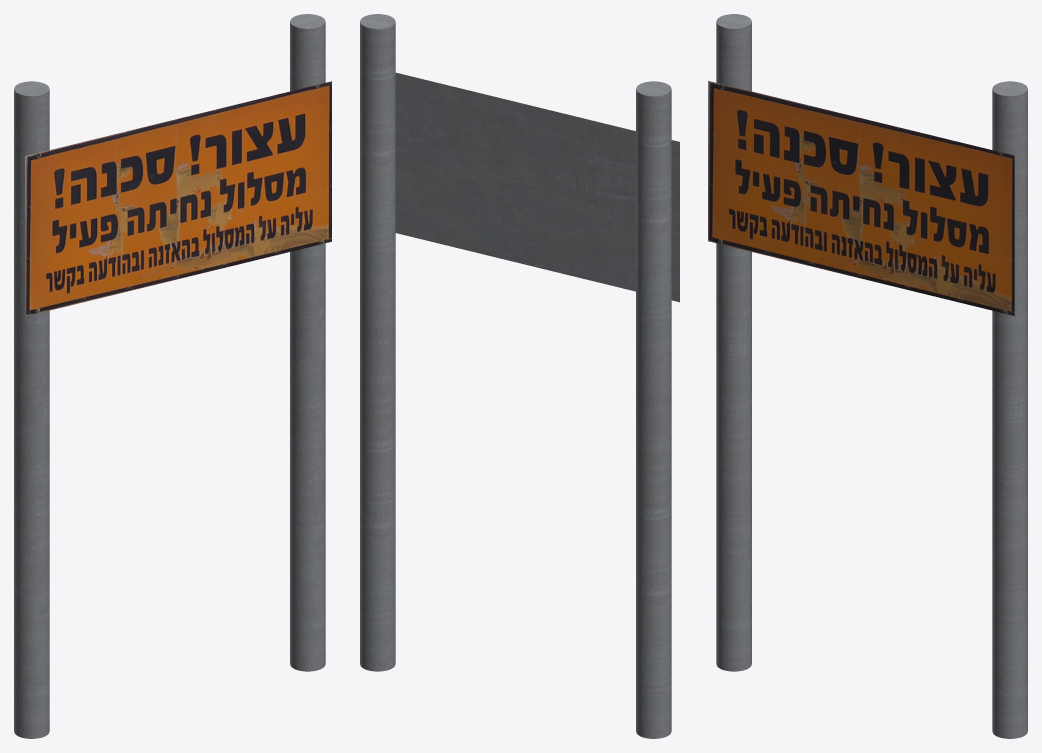
Rendered from SheletMaslul.gltf.
3 views of the same model, side by side, from view 1: azimuth 30°, elevation 25°; view 2: azimuth 150°, elevation 25°; view 3: azimuth 330°, elevation 25° (orthographic).
Visible parts, largest first — view 1: node2, node1; view 2: node1; view 3: node2, node1.
Boxes of the visible parts, <box> form: node2: <box>25,81,331,316</box>; node1: <box>14,14,325,738</box>; node1: <box>360,14,679,738</box>; node2: <box>708,81,1014,315</box>; node1: <box>716,14,1027,738</box>.
Bounding box in the file's own units: 1 × 2 × 0.1048.
